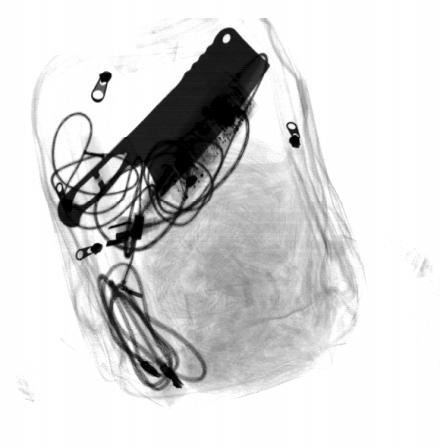Knife: (57, 26, 271, 228)
